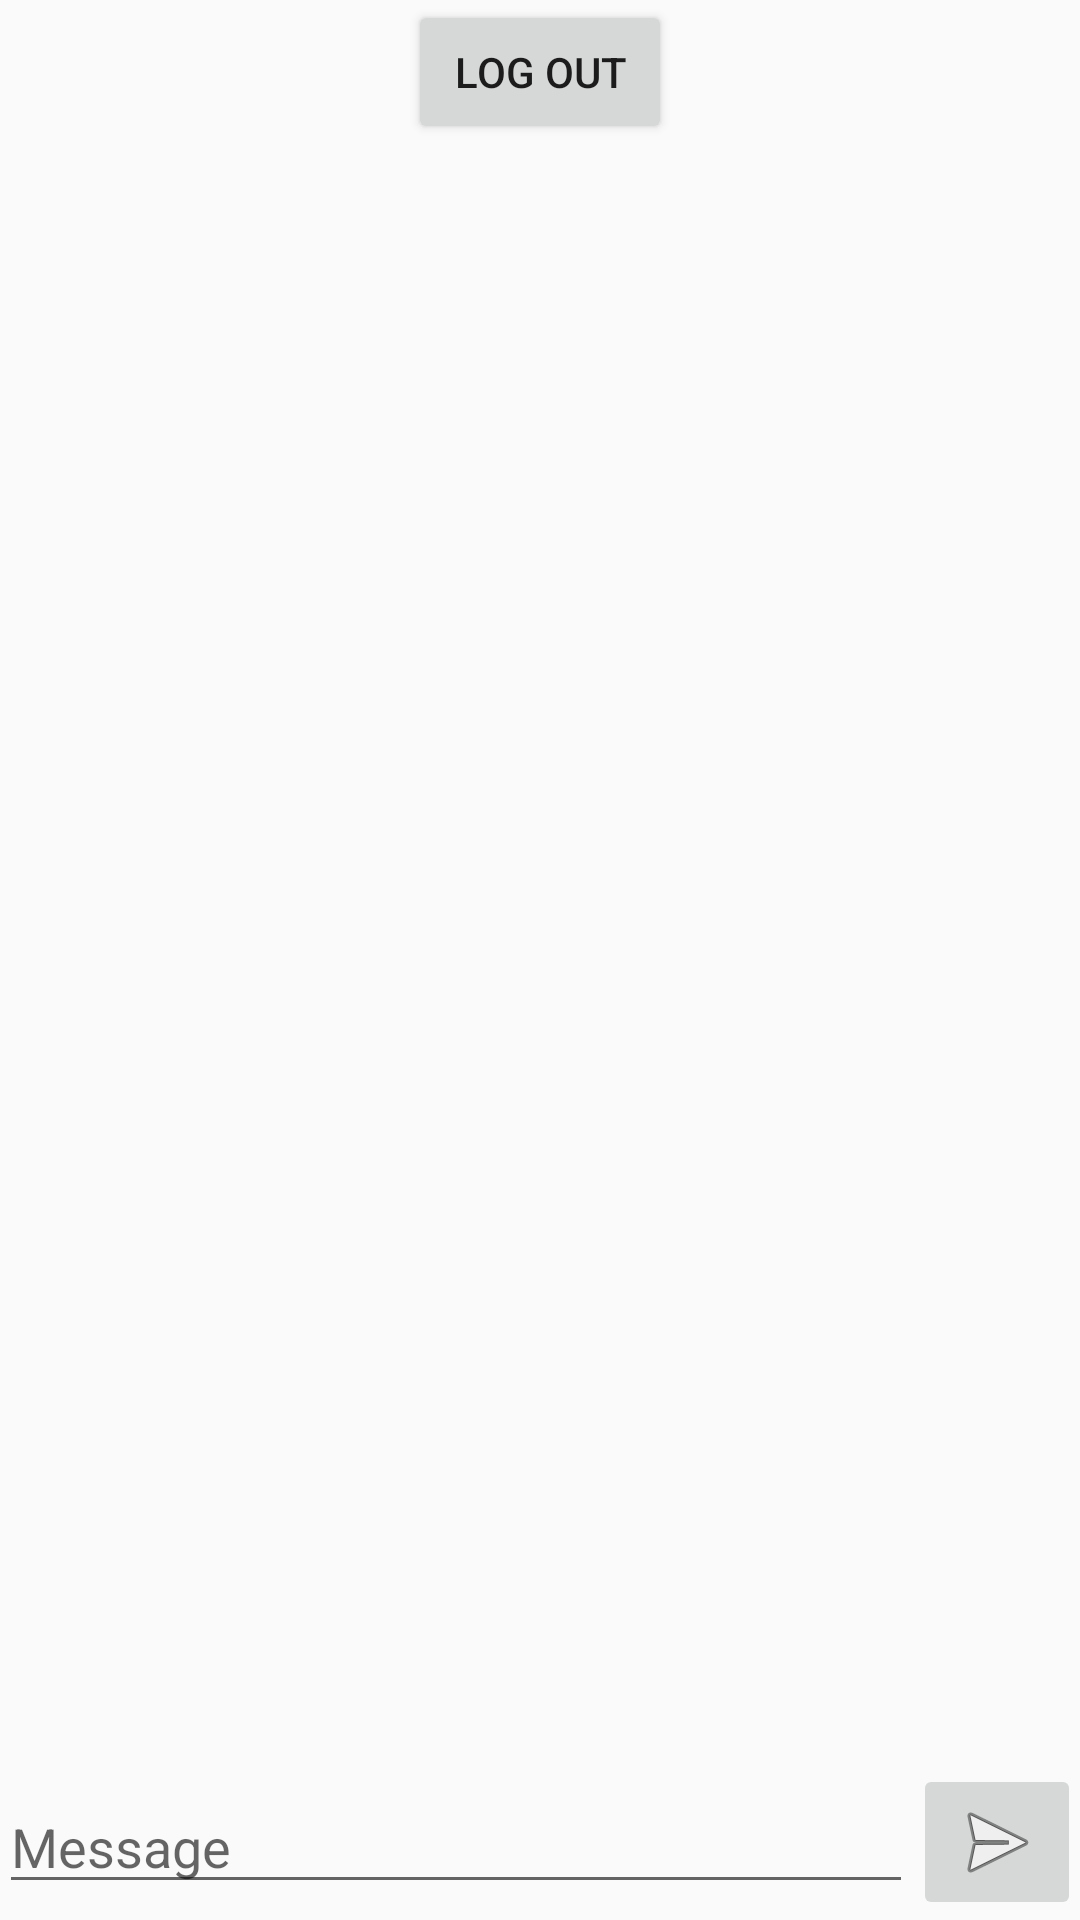

Icon click points for this 1080px×1920px phone screenshot, format point (x, y):
Send: point (997, 1842)
